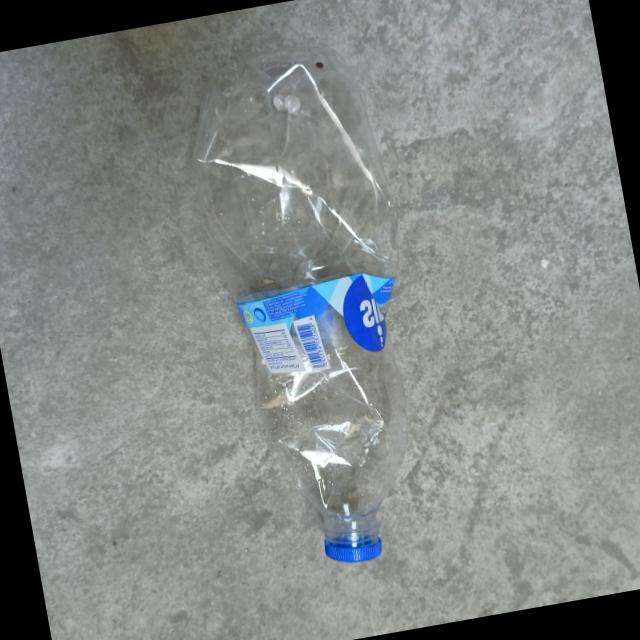Bottle: (193, 46, 406, 561)
